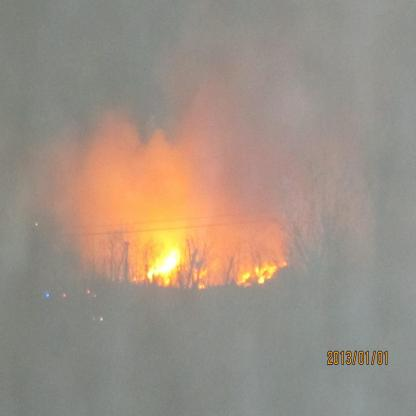fire: (137, 229, 212, 293), (238, 258, 296, 290)
